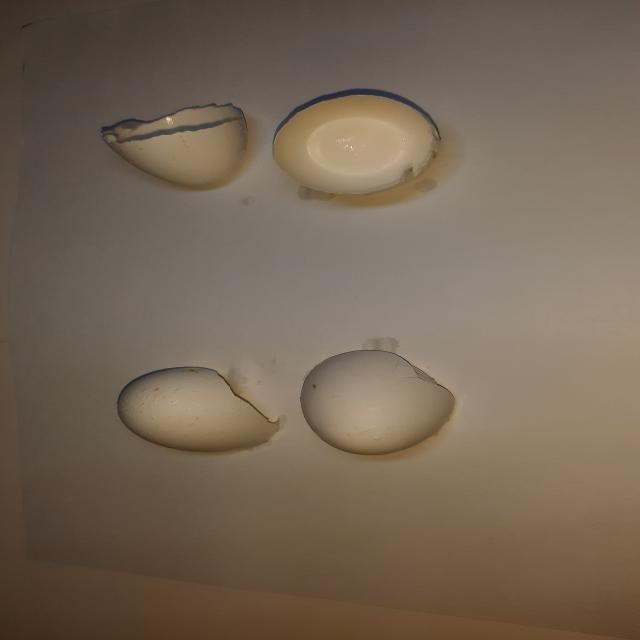egg shell: (270, 89, 444, 199), (296, 348, 460, 458), (114, 364, 284, 455), (94, 100, 252, 191)
